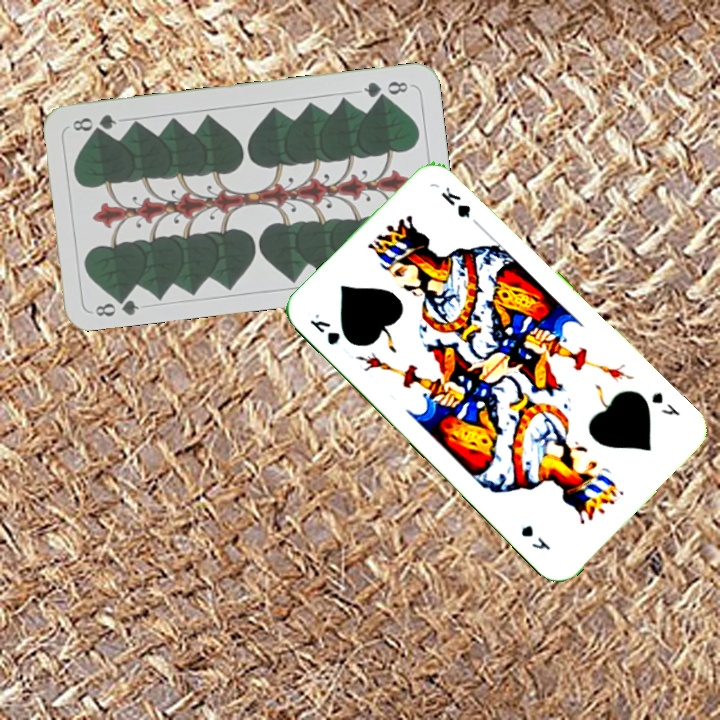G8: (91, 290, 142, 319), (359, 77, 411, 101)
GK: (305, 309, 343, 348), (647, 387, 683, 419)
